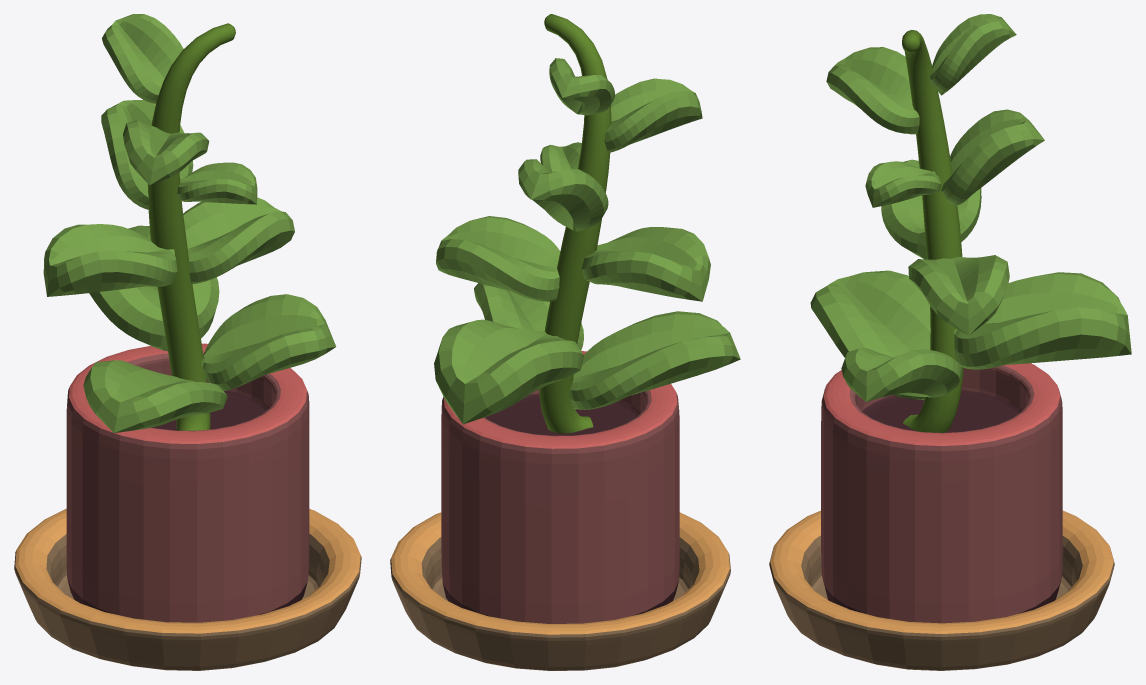
The model's file is 3D_Plant3.fbx.
The picture shows the model from 3 angles, left to right: view 1: azimuth 30°, elevation 25°; view 2: azimuth 150°, elevation 25°; view 3: azimuth 270°, elevation 25°; orthographic projection.
Parts seen in each view (by area): view 1: 3D_Plant3; view 2: 3D_Plant3; view 3: 3D_Plant3.
Boxes of the visible parts, left/top/right/bottom form: 3D_Plant3: left=14, top=14, right=361, bottom=670; 3D_Plant3: left=390, top=14, right=740, bottom=670; 3D_Plant3: left=769, top=14, right=1131, bottom=670.
Size of the model in its own units: 53.78 by 101 by 56.43.
